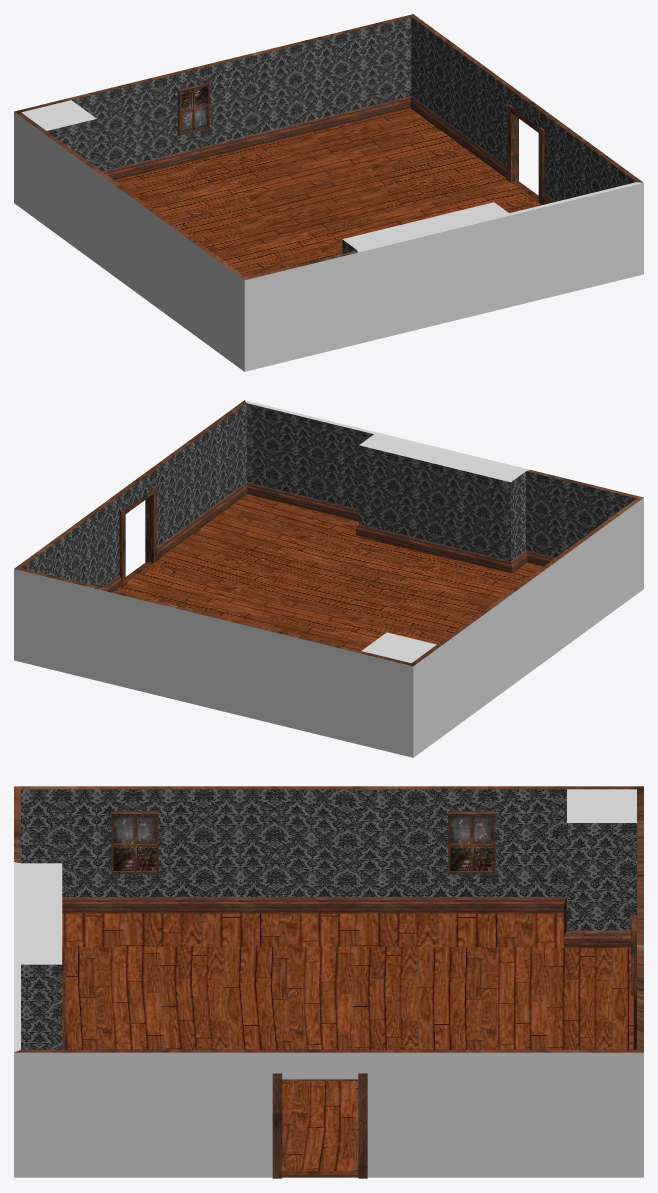
Rendered from lobby.glb.
3 renders of one model, top to bottom at view 1: azimuth 30°, elevation 25°; view 2: azimuth 150°, elevation 25°; view 3: azimuth 270°, elevation 25°, orthographic. The views are drawn at different scales.
Visible parts, largest first — view 1: Cube, window.002, Cube.001; view 2: Cube, Cube.001; view 3: Cube, window, window.001, Cube.001.
Boxes of the visible parts, x1,y1,x2,y2 form: Cube: (14,14,643,371); window.002: (177,82,209,135); Cube.001: (507,104,544,204); Cube: (14,400,643,757); Cube.001: (119,485,156,586); Cube: (14,786,643,1177); window: (448,811,495,874); window.001: (111,811,158,874); Cube.001: (272,1073,367,1178).
Size of the model in its own units: 51.3 by 11.23 by 51.16.
7 materials, 6 textured.
